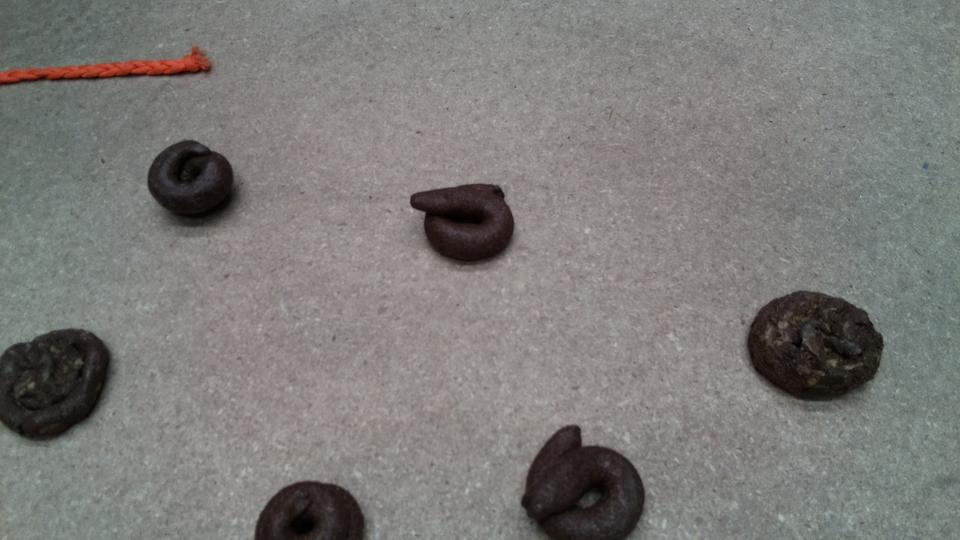poop: (745, 285, 888, 405), (518, 421, 649, 540), (1, 324, 116, 445), (407, 178, 518, 268), (145, 137, 237, 227), (248, 477, 372, 540)
rope: (1, 44, 213, 84)
